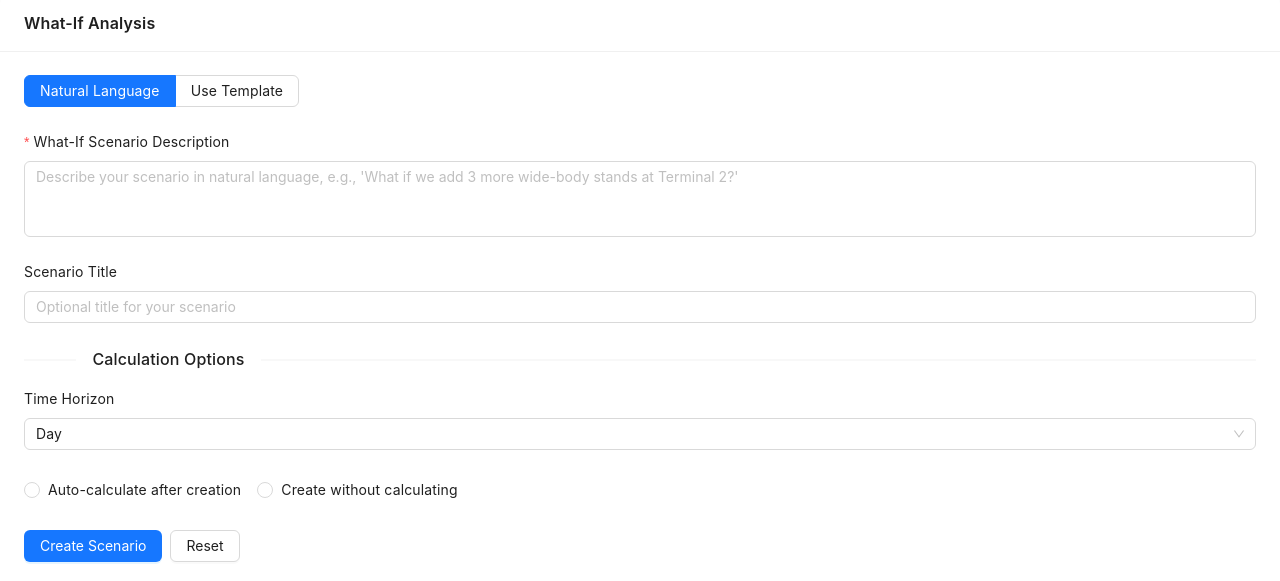
WhatIfAnalysis Component › switches between natural language and template forms
This screenshot has width=1280, height=581.
Expected: the text box labelled "What-If Scenario Description" is shown, x1=24 y1=161 x2=1256 y2=237
# Switch to template form
Click the button "Use Template" at coordinates (237, 90), box x1=191 y1=82 x2=283 y2=99
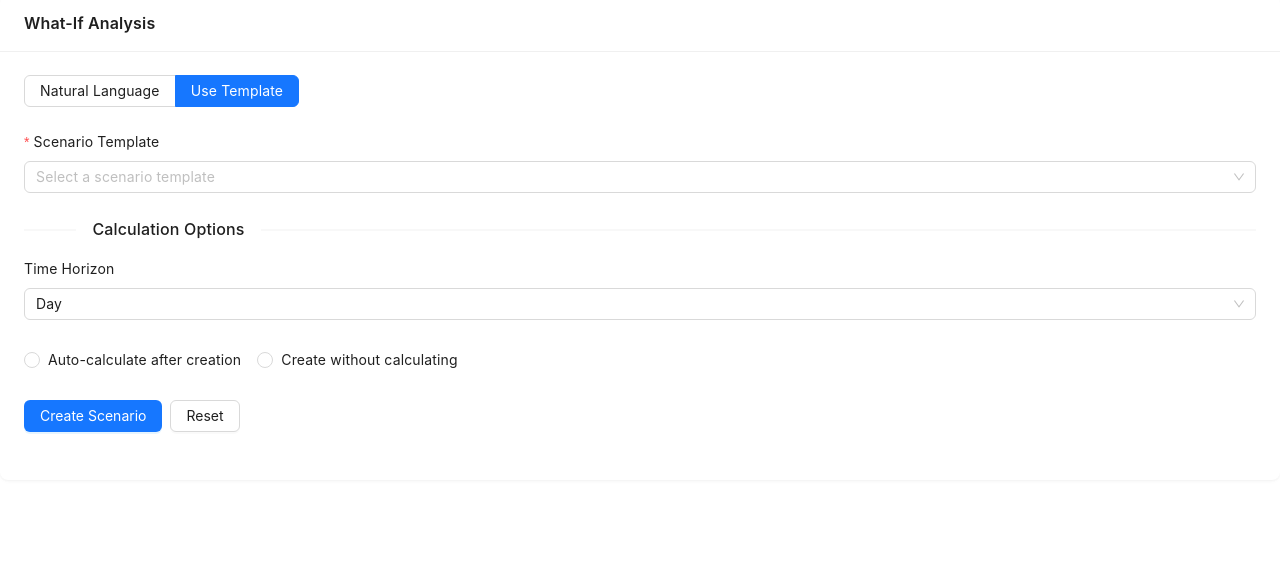
Result: the search field labelled "Scenario Template" is shown at x1=34 y1=133 x2=159 y2=150
Result: the label labelled "What-If Scenario Description" is gone
# Switch back to natural language
Click the button "Natural Language" at coordinates (100, 90), box x1=40 y1=82 x2=160 y2=99
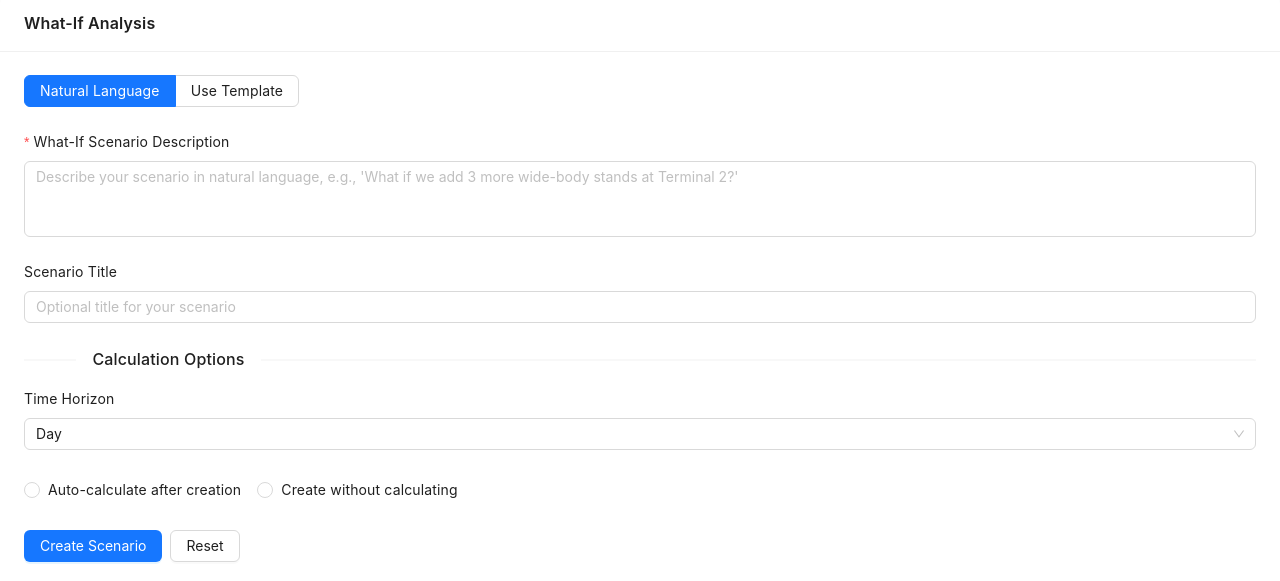
Result: the text box labelled "What-If Scenario Description" is shown at x1=24 y1=161 x2=1256 y2=237
